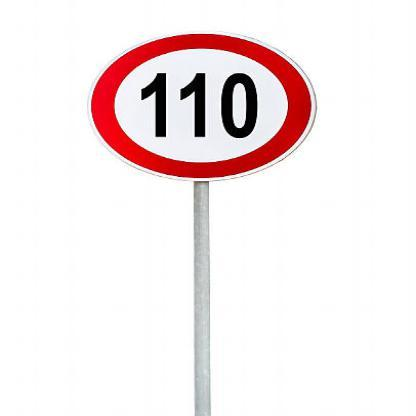Speed Limit 110: (87, 32, 317, 178)
